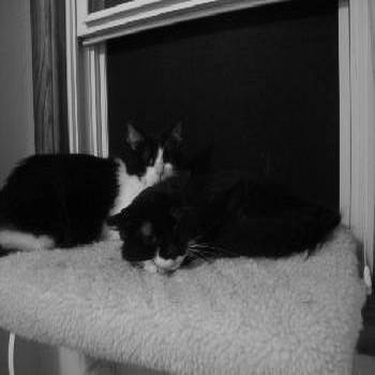cat: (110, 167, 342, 276), (14, 115, 185, 252)
